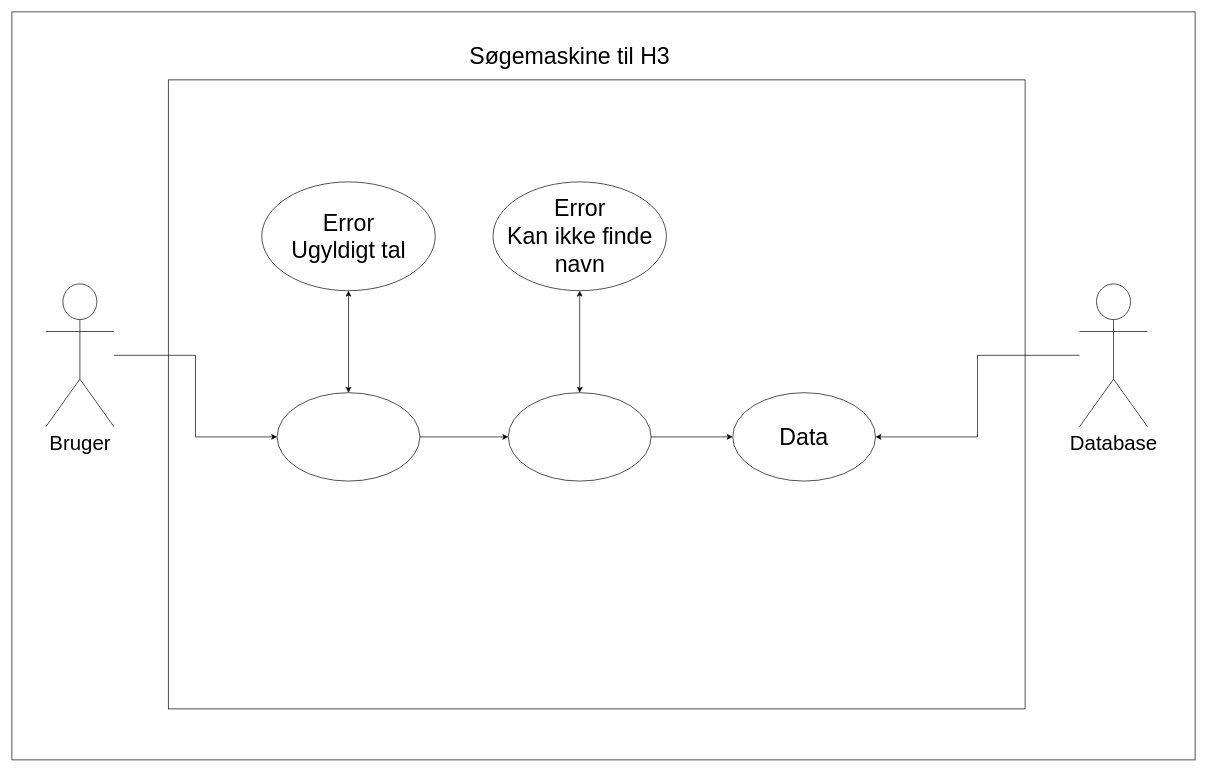
Image size: 1207x772. Some labels were removed from this diagram. The centre of each missing label's shape, as x and y in pixels:
Søger på navn: point 579,436
Vælger 1, 2 eller 3: point 348,436
